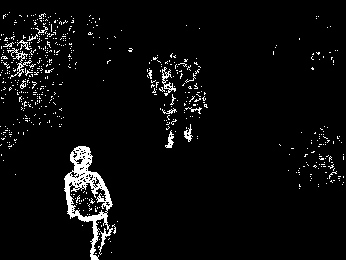person: (63, 145, 117, 259), (147, 54, 162, 93)
